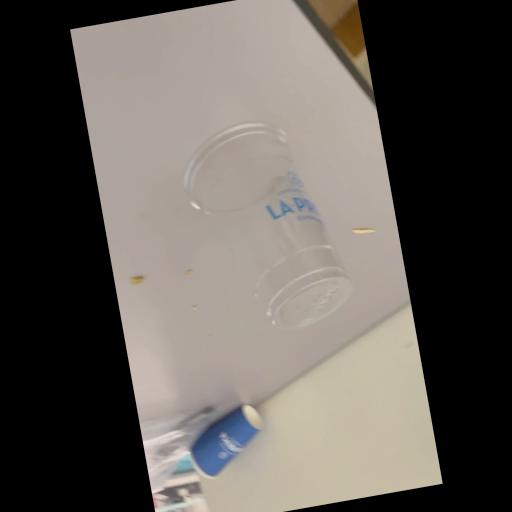lp_plastic_cup: (168, 104, 358, 349)
